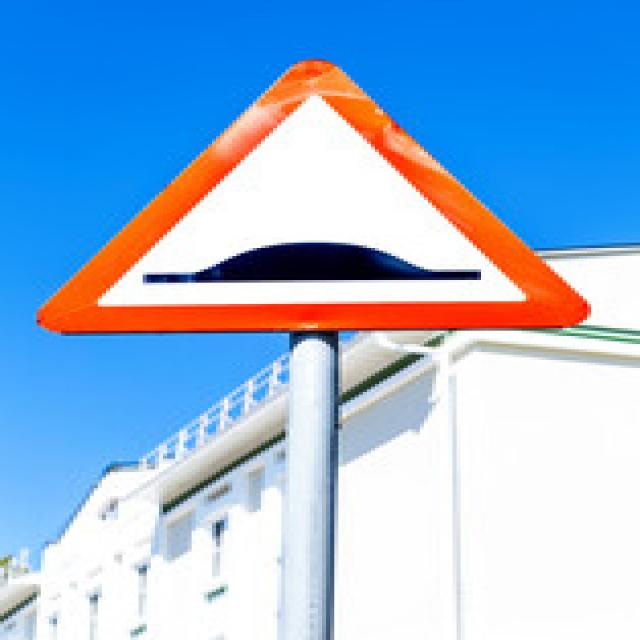hump: (35, 60, 601, 344)
